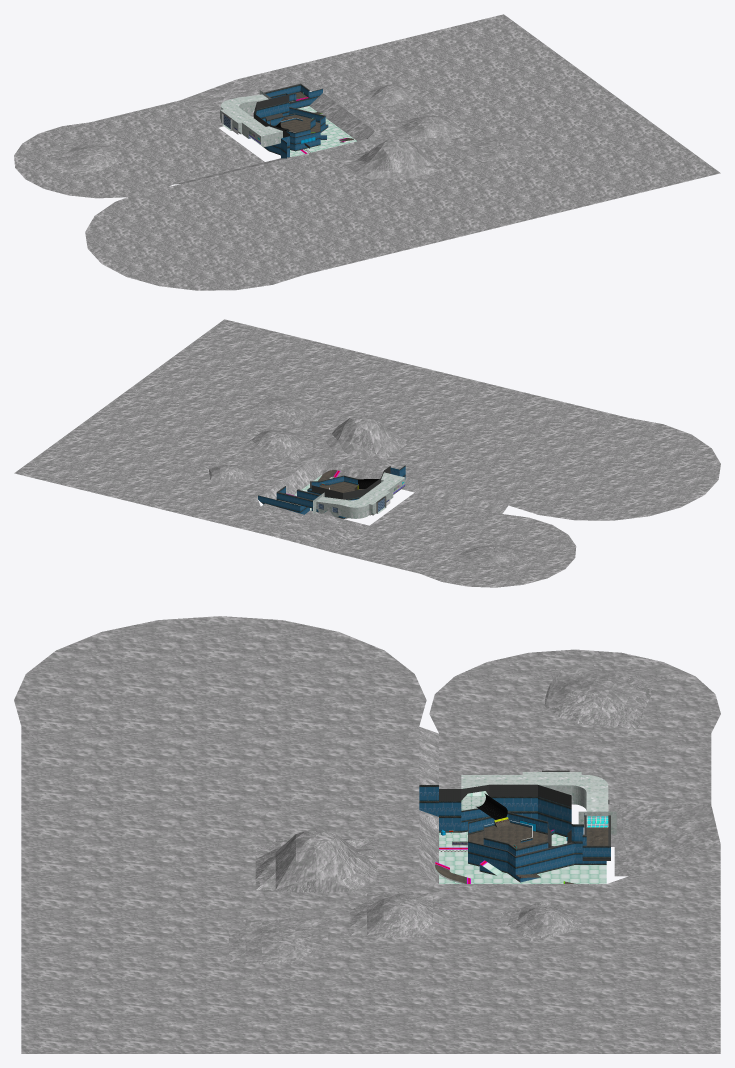
3 views of the same model, one above another, from view 1: azimuth 30°, elevation 25°; view 2: azimuth 150°, elevation 25°; view 3: azimuth 270°, elevation 25° (orthographic). The views are drawn at different scales.
Visible parts, largest first — view 1: GlxyBase-SKP--moon2.001, GlxyBase-SKP--moon.001, GlxyBase-SKP--Metalwall.001, GlxyBase-SKP--Moonwall.001, GlxyBase-SKP--black_metal.001, GlxyBase-SKP--Floor.001, GlxyBase-SKP--Road.001; view 2: GlxyBase-SKP--moon2.001, GlxyBase-SKP--moon.001, GlxyBase-SKP--Moonwall.001, GlxyBase-SKP--Metalwall.001, GlxyBase-SKP--black_metal.001; view 3: GlxyBase-SKP--moon2.001, GlxyBase-SKP--moon.001, GlxyBase-SKP--Metalwall.001, GlxyBase-SKP--Floor.001, GlxyBase-SKP--Moonwall.001, GlxyBase-SKP--black_metal.001, GlxyBase-SKP--Road.001.
Part boxes in pixels (<box>): GlxyBase-SKP--moon2.001: <box>14,14,720,290</box>; GlxyBase-SKP--moon.001: <box>50,79,538,184</box>; GlxyBase-SKP--Metalwall.001: <box>255,84,328,158</box>; GlxyBase-SKP--Moonwall.001: <box>220,90,354,147</box>; GlxyBase-SKP--black_metal.001: <box>222,83,324,148</box>; GlxyBase-SKP--Floor.001: <box>248,106,356,156</box>; GlxyBase-SKP--Road.001: <box>275,92,353,140</box>; GlxyBase-SKP--moon2.001: <box>14,319,720,587</box>; GlxyBase-SKP--moon.001: <box>209,393,539,573</box>; GlxyBase-SKP--Moonwall.001: <box>278,471,405,518</box>; GlxyBase-SKP--Metalwall.001: <box>258,465,405,518</box>; GlxyBase-SKP--black_metal.001: <box>276,466,390,513</box>; GlxyBase-SKP--moon2.001: <box>14,616,720,1053</box>; GlxyBase-SKP--moon.001: <box>229,670,720,963</box>; GlxyBase-SKP--Metalwall.001: <box>419,785,610,882</box>; GlxyBase-SKP--Floor.001: <box>439,791,606,883</box>; GlxyBase-SKP--Moonwall.001: <box>433,772,616,883</box>; GlxyBase-SKP--black_metal.001: <box>439,770,610,860</box>; GlxyBase-SKP--Road.001: <box>435,821,608,883</box>.
Bounding box in the file's own units: 293614 × 16267 × 200348.
Materials: 25 (23 with a texture image).
